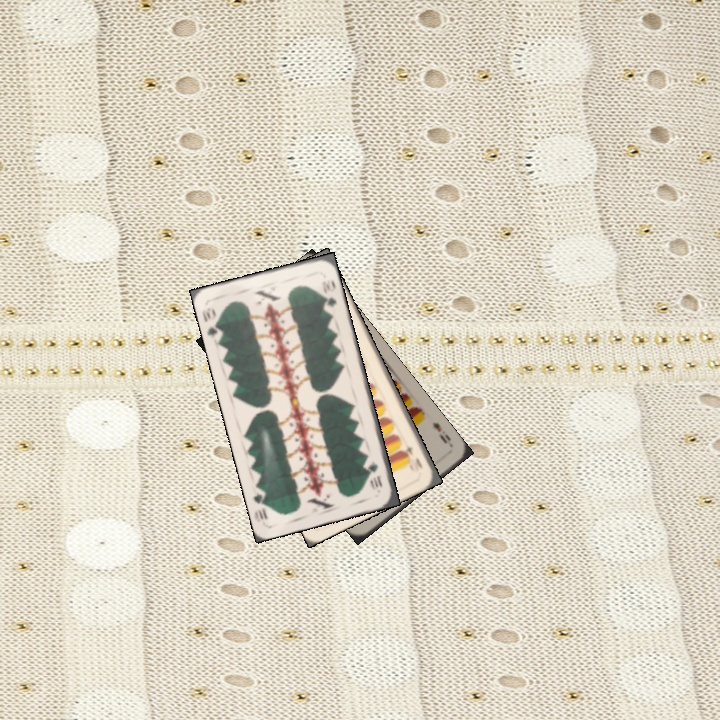E10: (399, 437, 426, 472)
E9: (428, 418, 455, 449)
G10: (198, 304, 225, 340), (365, 457, 385, 491)
